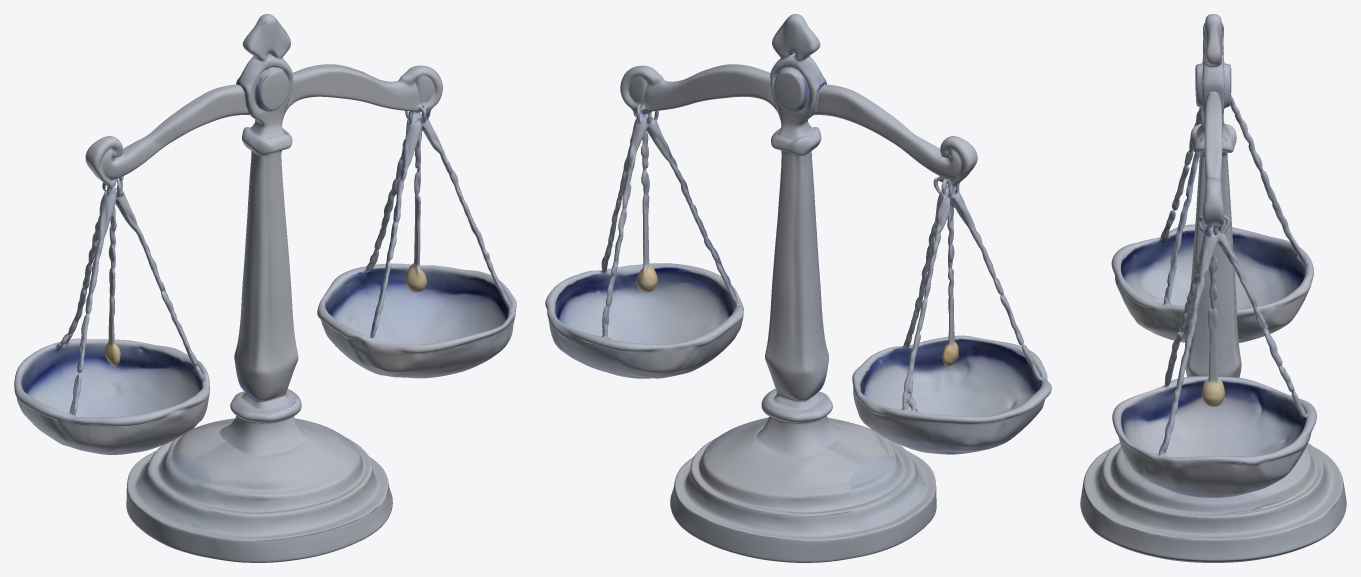
File: scales-medium.glb
3 renders of one model, left to right at view 1: azimuth 30°, elevation 25°; view 2: azimuth 150°, elevation 25°; view 3: azimuth 270°, elevation 25°, orthographic.
Parts seen in each view (by area): view 1: tripo_node_afbb0513-f9ca-4ae9-aa9d-b5895f0dda82; view 2: tripo_node_afbb0513-f9ca-4ae9-aa9d-b5895f0dda82; view 3: tripo_node_afbb0513-f9ca-4ae9-aa9d-b5895f0dda82.
Part boxes in pixels (bbox=[...]): tripo_node_afbb0513-f9ca-4ae9-aa9d-b5895f0dda82: bbox=[14, 14, 516, 562]; tripo_node_afbb0513-f9ca-4ae9-aa9d-b5895f0dda82: bbox=[545, 14, 1051, 562]; tripo_node_afbb0513-f9ca-4ae9-aa9d-b5895f0dda82: bbox=[1080, 14, 1346, 562].
Size of the model in its own units: 1 by 0.9865 by 0.4756.
Materials: 1 (1 with a texture image).
